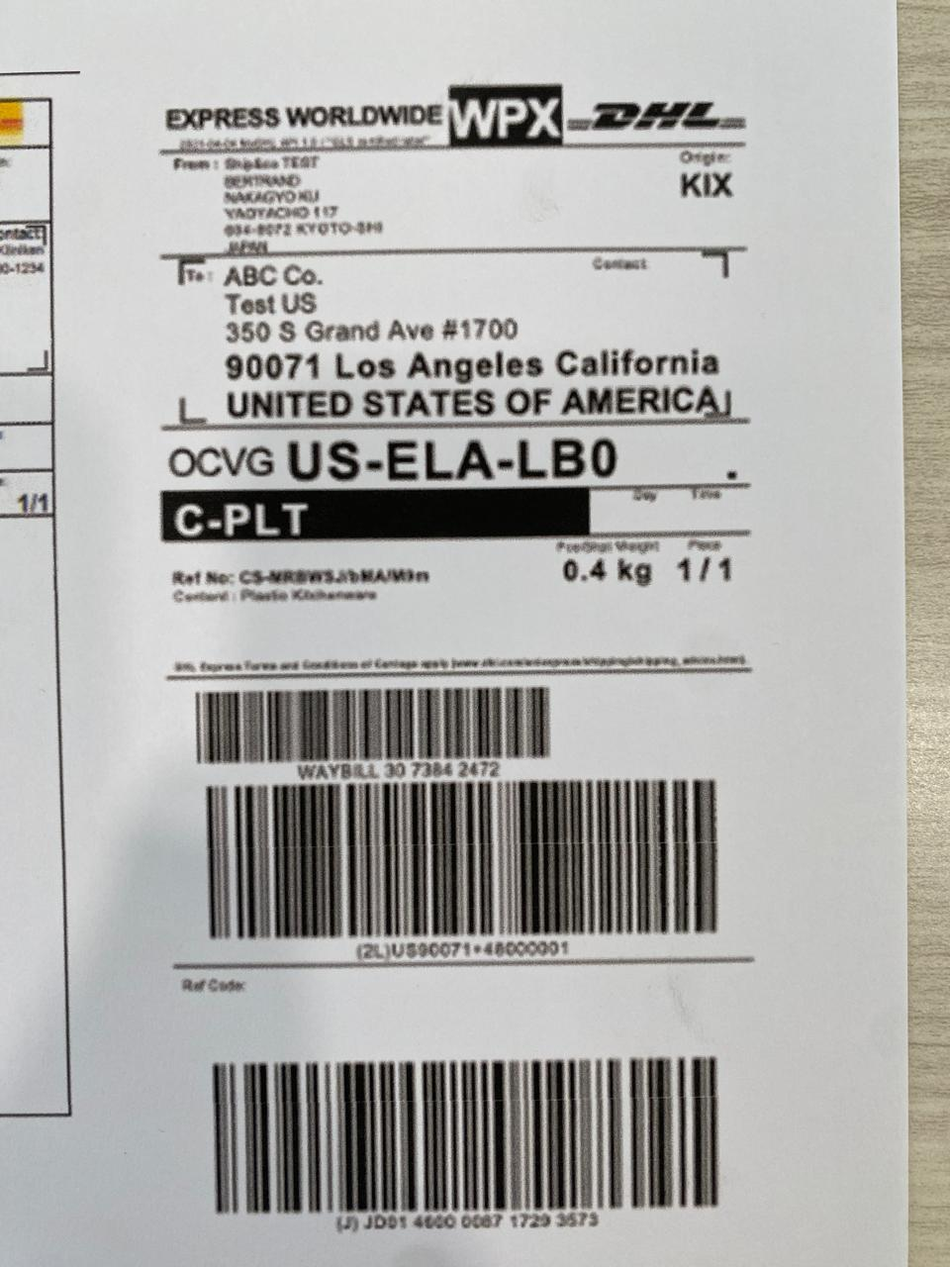waybill_text: (288, 760, 509, 783)
